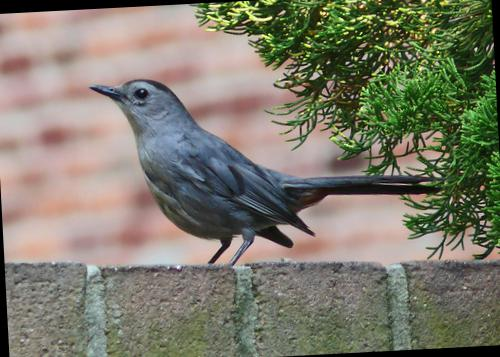bird: (80, 56, 450, 284)
